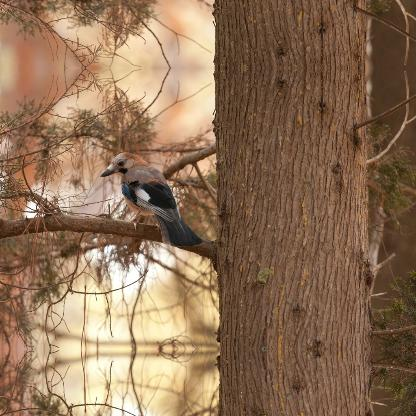Bird: (98, 152, 202, 244)
